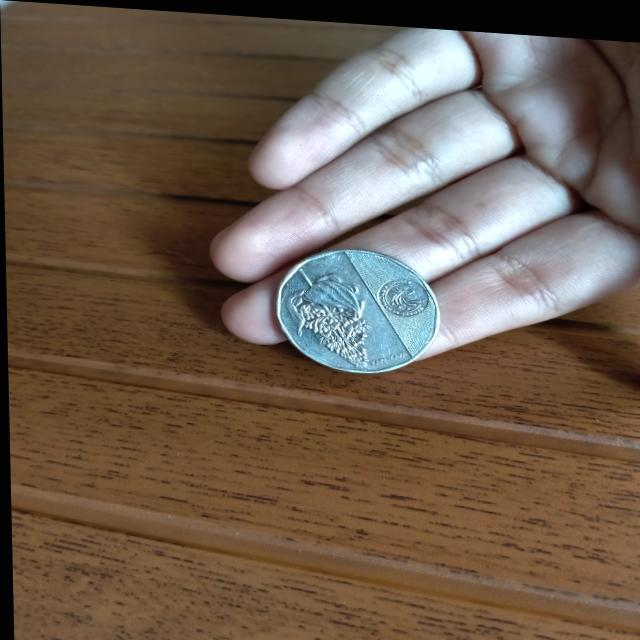10_New_Back: (275, 256, 373, 373)
